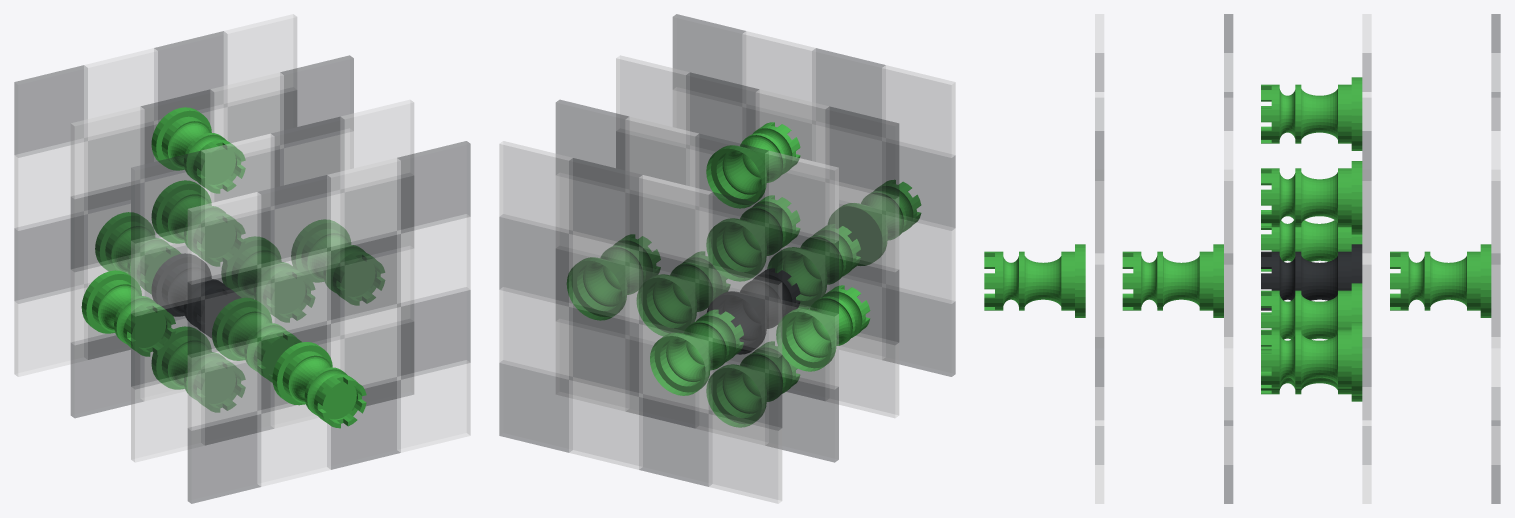
The model's file is tinker.obj.
3 views of the same model, side by side, from view 1: azimuth 30°, elevation 25°; view 2: azimuth 150°, elevation 25°; view 3: azimuth 270°, elevation 25° (orthographic). The views are drawn at different scales.
Visible parts, largest first — view 1: group_0_-1037357519, group_0_-1023739142, group_0_4634441, group_0_2829873; view 2: group_0_-1037357519, group_0_-1023739142, group_0_4634441, group_0_2829873; view 3: group_0_4634441, group_0_-1037357519, group_0_-1023739142, group_0_2829873.
Part boxes in pixels (x1,y1,x2,y2): group_0_-1037357519: (14, 31, 470, 503); group_0_-1023739142: (14, 14, 470, 486); group_0_4634441: (81, 107, 384, 428); group_0_2829873: (151, 253, 240, 337); group_0_-1037357519: (499, 14, 955, 486); group_0_-1023739142: (499, 31, 955, 503); group_0_4634441: (567, 122, 921, 427); group_0_2829873: (707, 268, 800, 354); group_0_4634441: (984, 77, 1491, 401); group_0_-1037357519: (1095, 14, 1500, 503); group_0_-1023739142: (1095, 14, 1500, 503); group_0_2829873: (1261, 244, 1362, 310).
Size of the model in its own units: 40 by 40 by 56.
